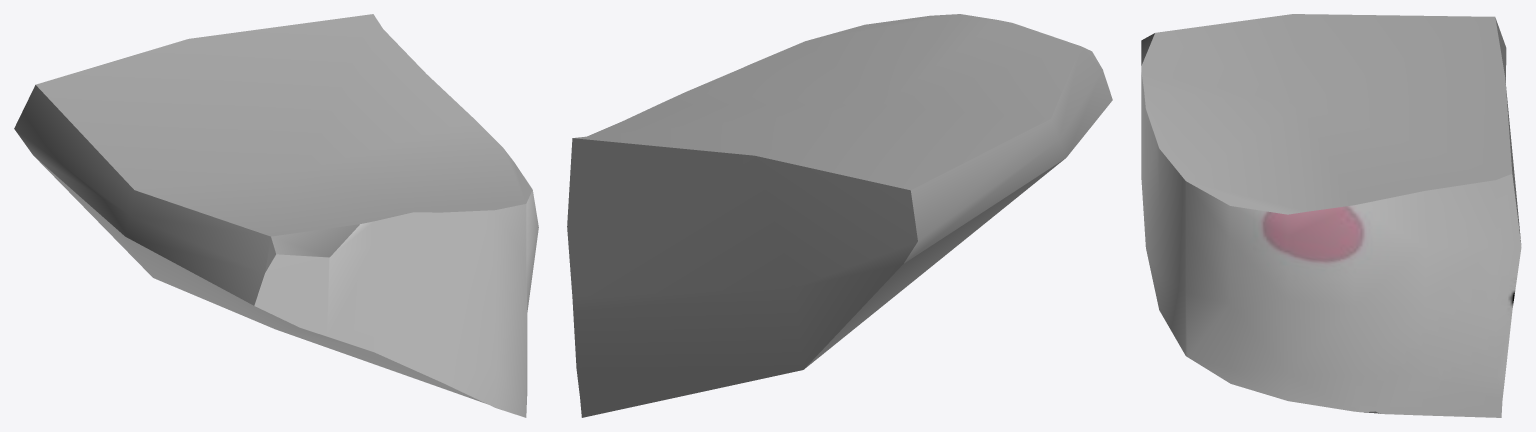
The model's file is Happy_Box7.fbx.
3 views of the same model, side by side, from view 1: azimuth 30°, elevation 25°; view 2: azimuth 150°, elevation 25°; view 3: azimuth 270°, elevation 25° (orthographic). The views are drawn at different scales.
Visible parts, largest first — view 1: Happy_Box7; view 2: Happy_Box7; view 3: Happy_Box7.
Boxes of the visible parts, box(x1,y1,x2,y2) form: Happy_Box7: box(14, 14, 538, 417); Happy_Box7: box(567, 14, 1112, 417); Happy_Box7: box(1141, 14, 1521, 417).
Size of the model in its own units: 22.36 by 17.46 by 22.64.
Materials: 2 (1 with a texture image).
